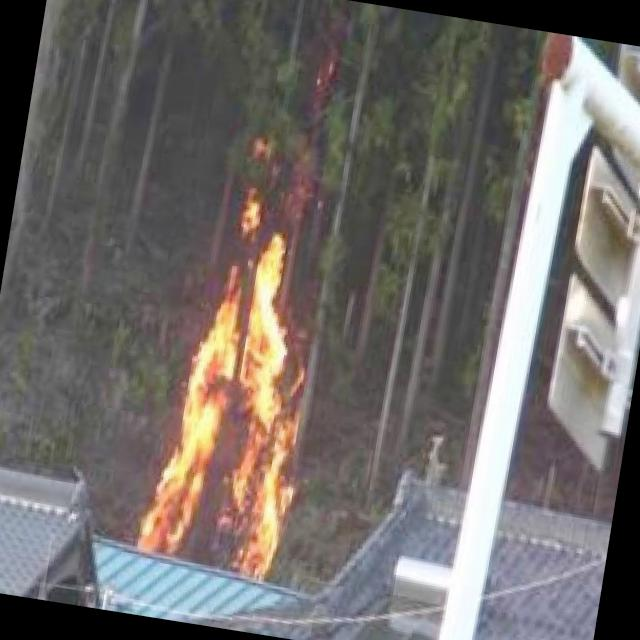fire: (129, 181, 347, 574)
